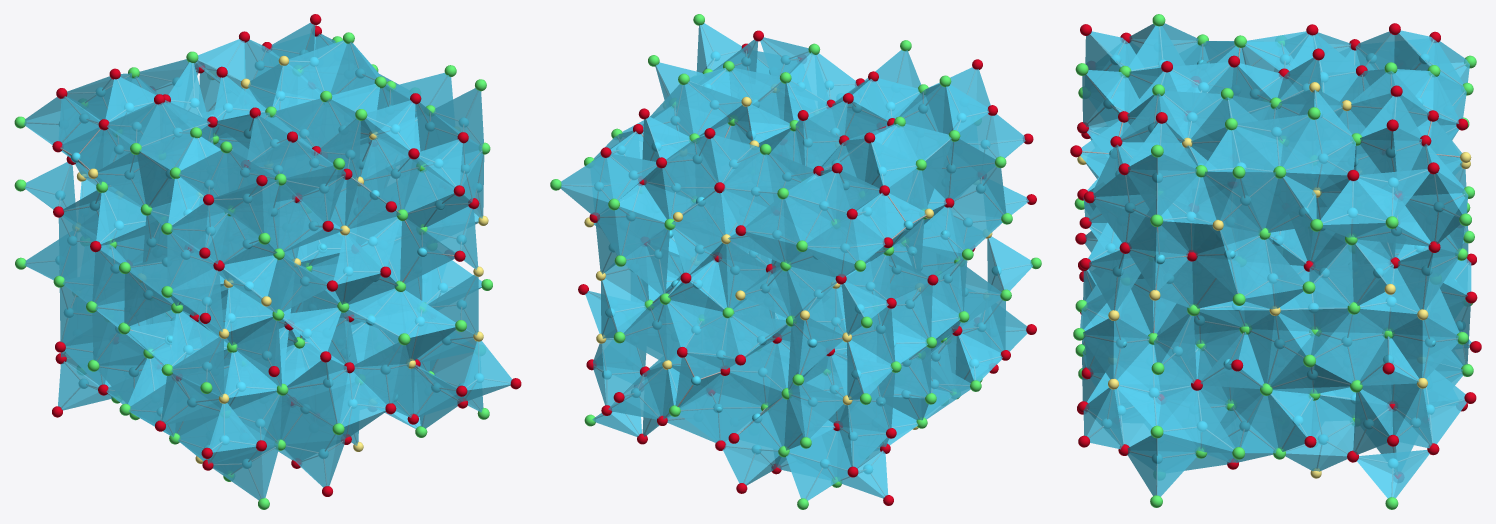
3 views of the same model, side by side, from view 1: azimuth 30°, elevation 25°; view 2: azimuth 150°, elevation 25°; view 3: azimuth 270°, elevation 25° (orthographic). The views are drawn at different scales.
Parts seen in each view (by area): view 1: Shape_IndexedFaceSet, Shape_Cylinder, atom0_IndexedFaceSet, atom128_IndexedFaceSet, atom100_IndexedFaceSet, atom109_IndexedFaceSet; view 2: Shape_IndexedFaceSet, Shape_Cylinder, atom128_IndexedFaceSet, atom0_IndexedFaceSet, atom100_IndexedFaceSet, atom109_IndexedFaceSet; view 3: Shape_IndexedFaceSet, Shape_Cylinder, atom0_IndexedFaceSet, atom100_IndexedFaceSet, atom128_IndexedFaceSet, atom109_IndexedFaceSet.
Part boxes in pixels (x1,y1,x2,y2): Shape_IndexedFaceSet: (24, 22, 512, 500); Shape_Cylinder: (26, 25, 509, 497); atom0_IndexedFaceSet: (14, 32, 492, 509); atom128_IndexedFaceSet: (55, 49, 483, 468); atom100_IndexedFaceSet: (52, 14, 521, 496); atom109_IndexedFaceSet: (75, 55, 488, 463); Shape_IndexedFaceSet: (560, 23, 1032, 500); Shape_Cylinder: (562, 25, 1030, 498); atom128_IndexedFaceSet: (594, 51, 1001, 473); atom0_IndexedFaceSet: (550, 14, 1041, 509); atom100_IndexedFaceSet: (578, 30, 1036, 505); atom109_IndexedFaceSet: (584, 87, 992, 429); Shape_IndexedFaceSet: (1080, 23, 1471, 498); Shape_Cylinder: (1082, 27, 1469, 496); atom0_IndexedFaceSet: (1073, 14, 1476, 509); atom100_IndexedFaceSet: (1070, 23, 1481, 478); atom128_IndexedFaceSet: (1101, 53, 1462, 468); atom109_IndexedFaceSet: (1077, 82, 1471, 478).
Size of the model in its own units: 24.34 by 24.26 by 24.03.
